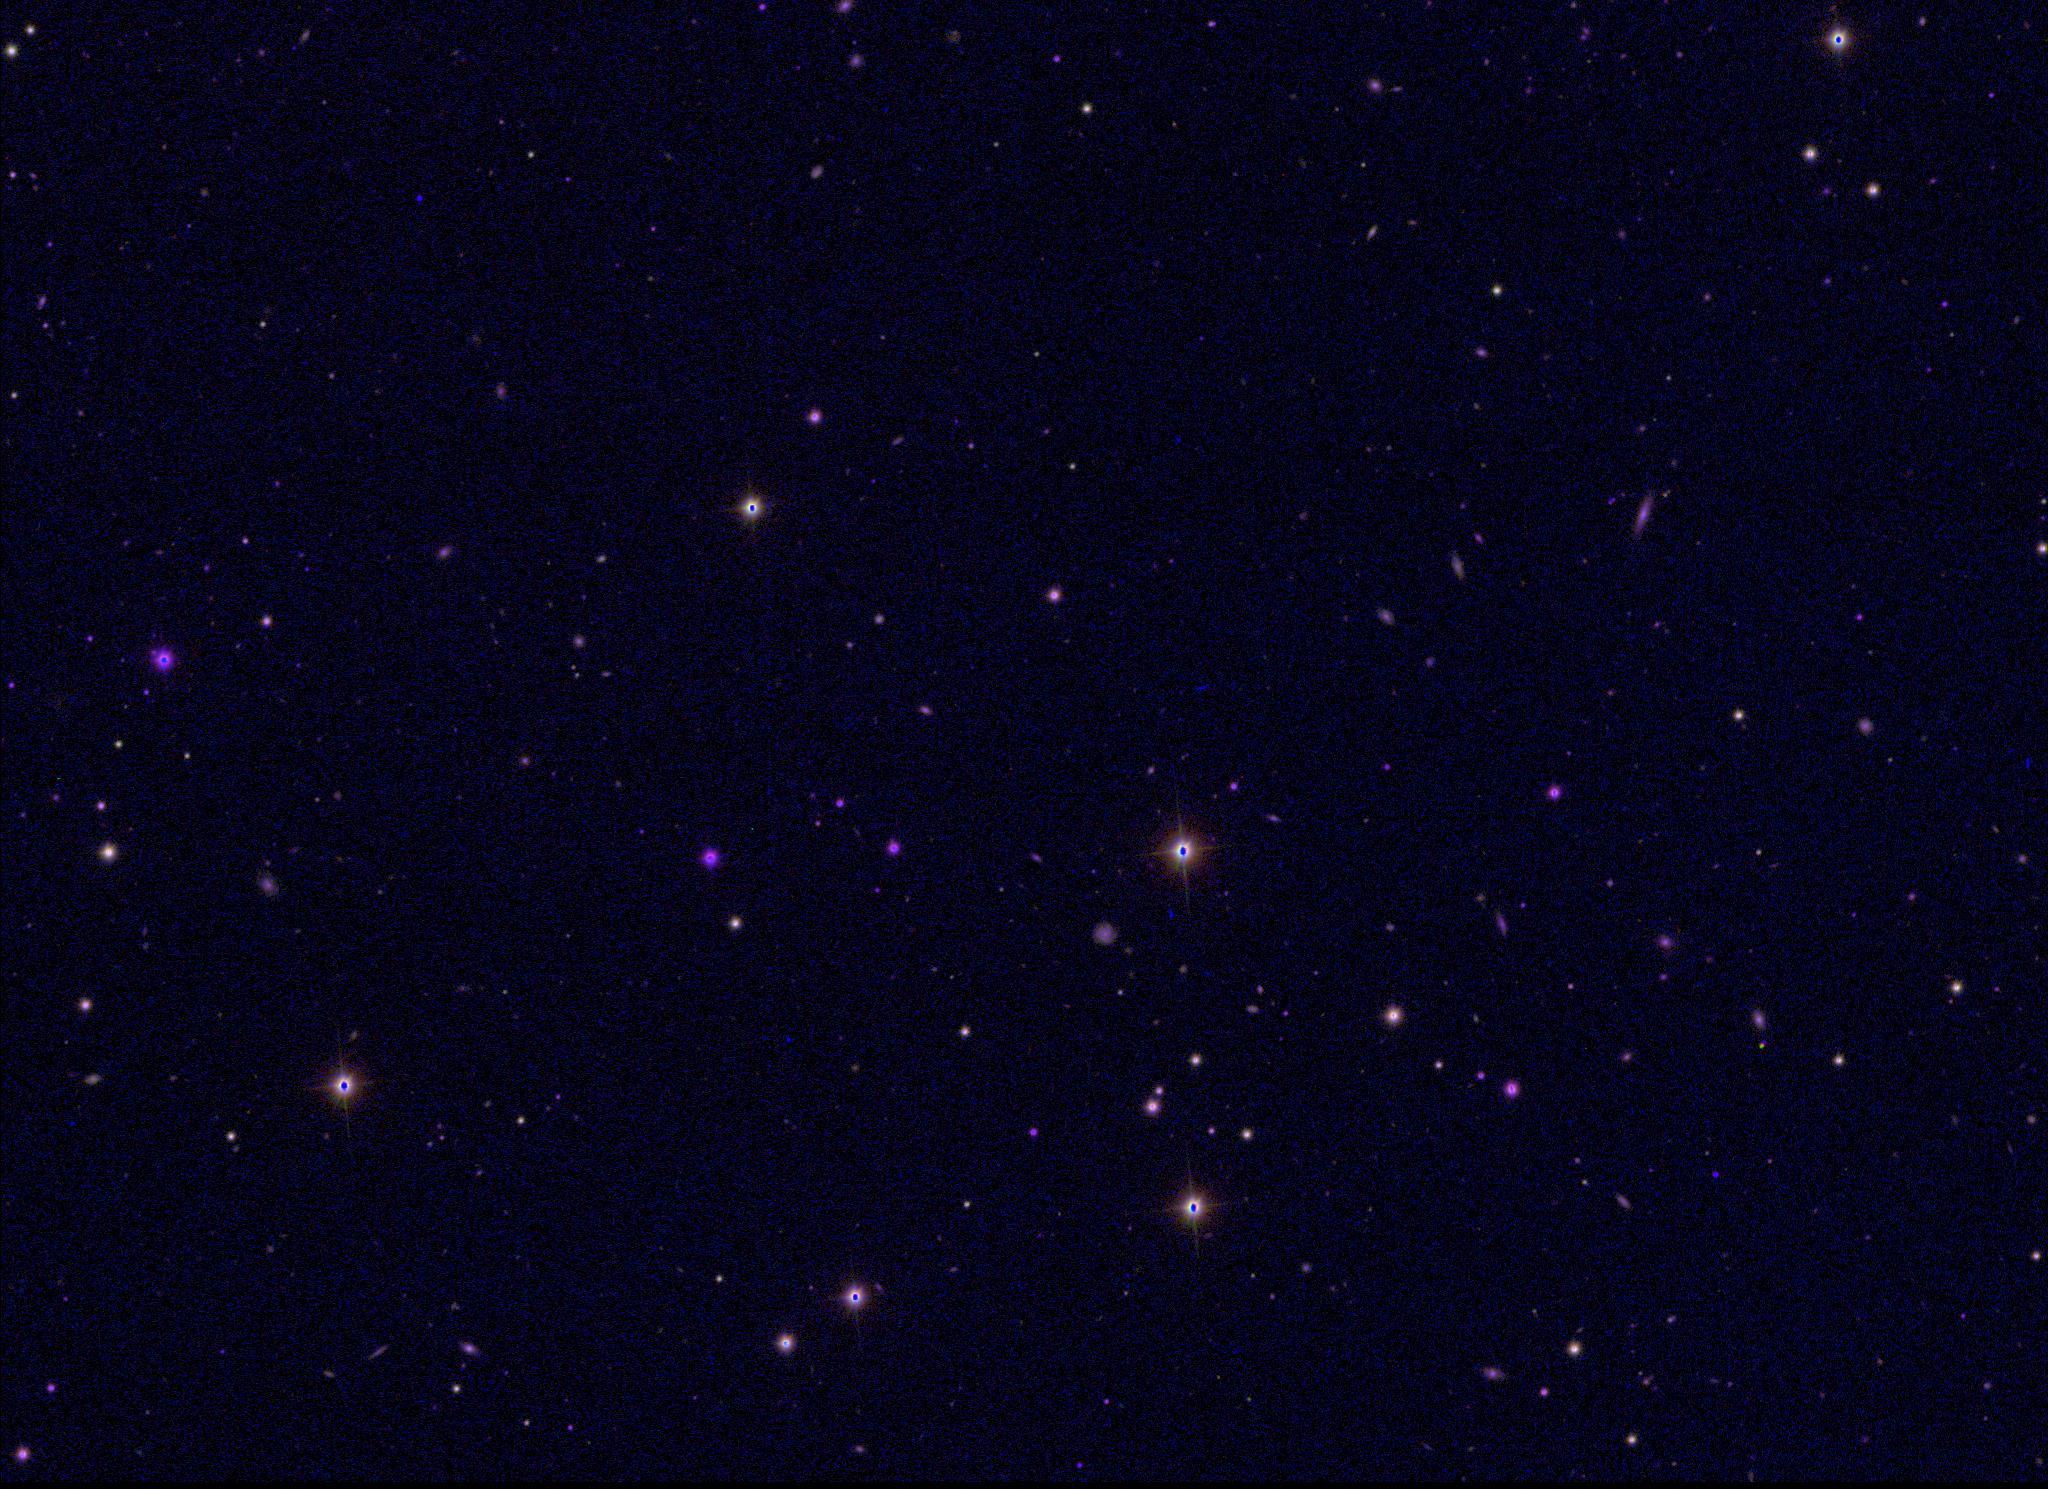L: (412, 191, 426, 205)
